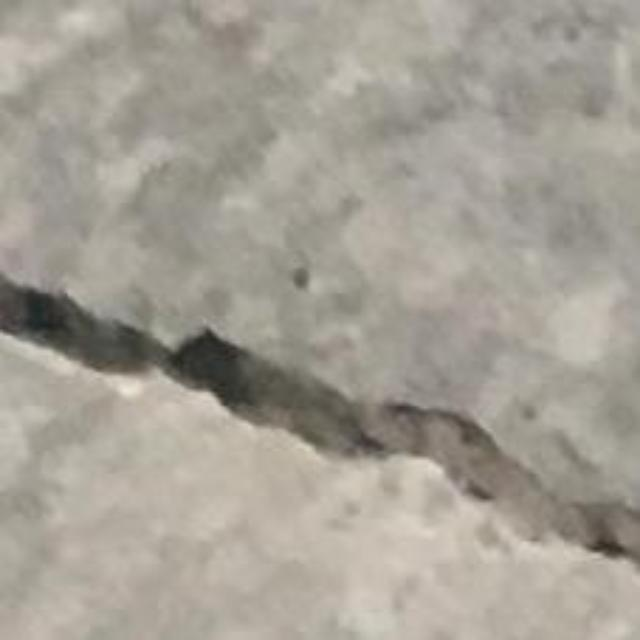crack: (0, 274, 639, 563)
